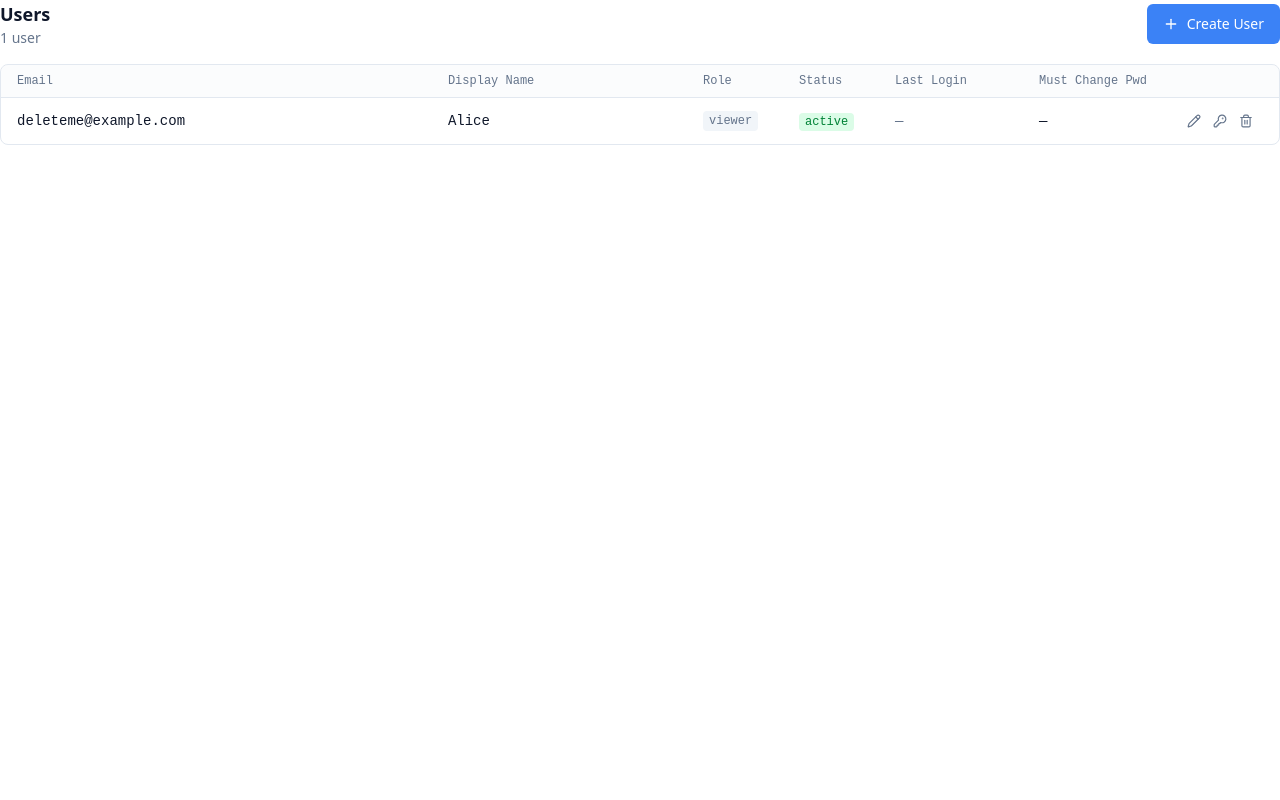
Test: UsersSection › clicking delete icon opens confirm dialog
What coordinates should you click on to do the following:
click the button titled "Delete"
I would click on:
 (1246, 121)
Its box is x1=1235 y1=110 x2=1257 y2=132.
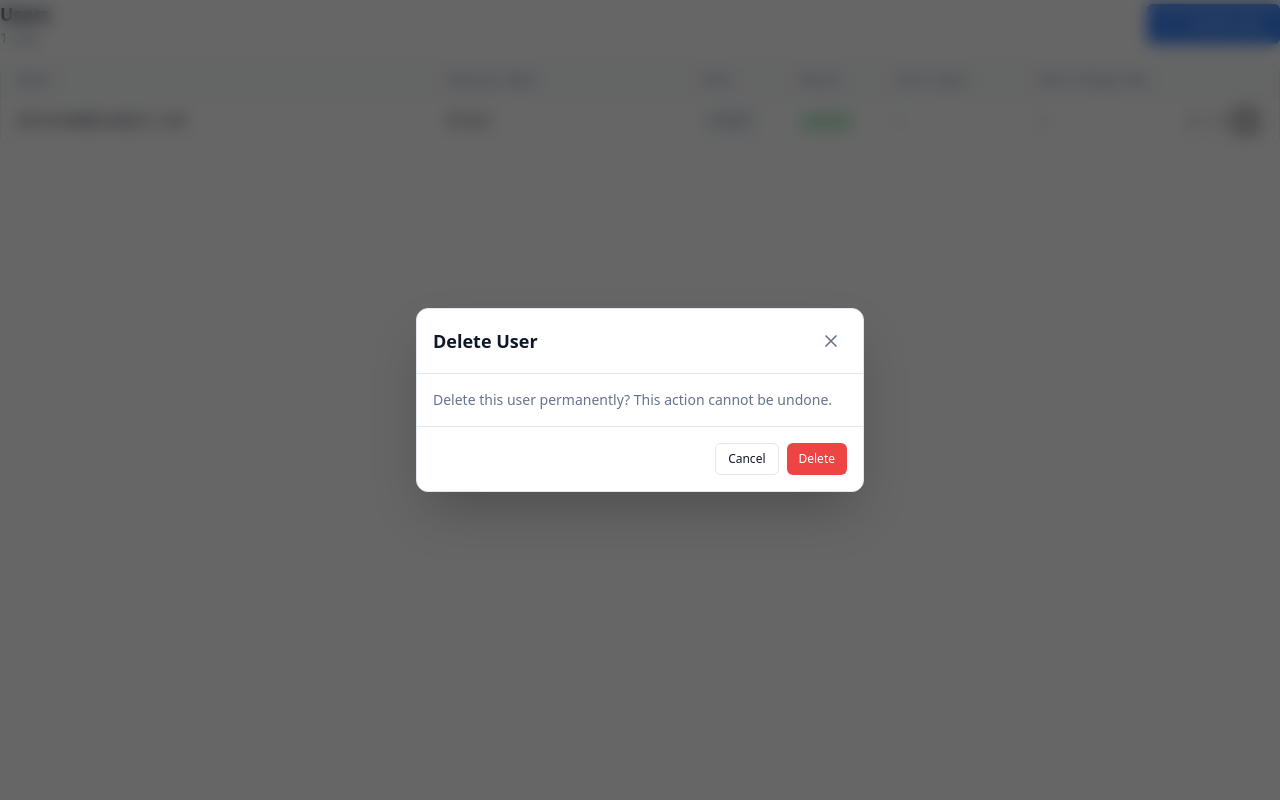
Expected: the text "Delete this user permanently? This action cannot be undone." is shown, x1=433 y1=390 x2=847 y2=410
